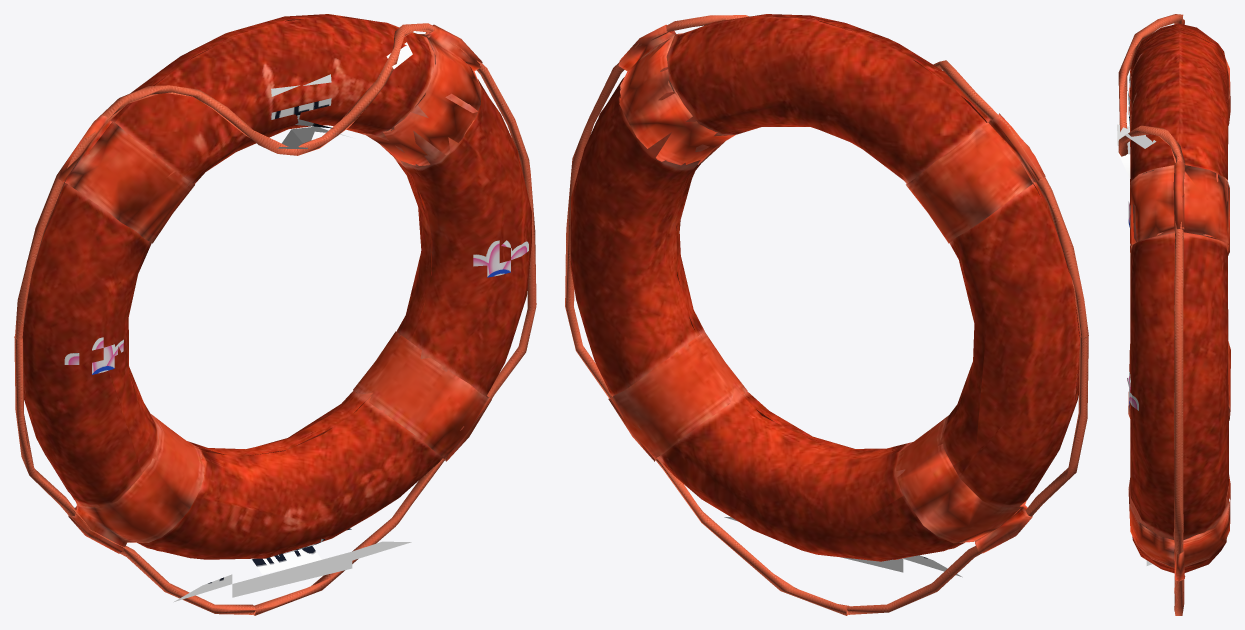
File: lifebuoy.glb
3 views of the same model, side by side, from view 1: azimuth 30°, elevation 25°; view 2: azimuth 150°, elevation 25°; view 3: azimuth 270°, elevation 25° (orthographic). The views are drawn at different scales.
Parts seen in each view (by area): view 1: lifebuoy, stk_lbl_fb1b0c29e7.png, stk_lbl_9b8c619974.png, stk_eyeflower_die.png.001, stk_eyeflower_die.png; view 2: lifebuoy, stk_lbl_fb1b0c29e7.png; view 3: lifebuoy, stk_lbl_9b8c619974.png.
Part boxes in pixels (x1,y1,x2,y2): lifebuoy: [14, 14, 536, 615]; stk_lbl_fb1b0c29e7.png: [173, 528, 411, 602]; stk_lbl_9b8c619974.png: [271, 42, 412, 148]; stk_eyeflower_die.png.001: [473, 240, 528, 277]; stk_eyeflower_die.png: [64, 337, 123, 374]; lifebuoy: [565, 14, 1088, 615]; stk_lbl_fb1b0c29e7.png: [724, 517, 962, 577]; lifebuoy: [1118, 14, 1230, 615]; stk_lbl_9b8c619974.png: [1117, 73, 1156, 178].
Bounding box in the file's own units: 0.7829 × 0.8415 × 0.1565.
5 materials, 5 textured.
